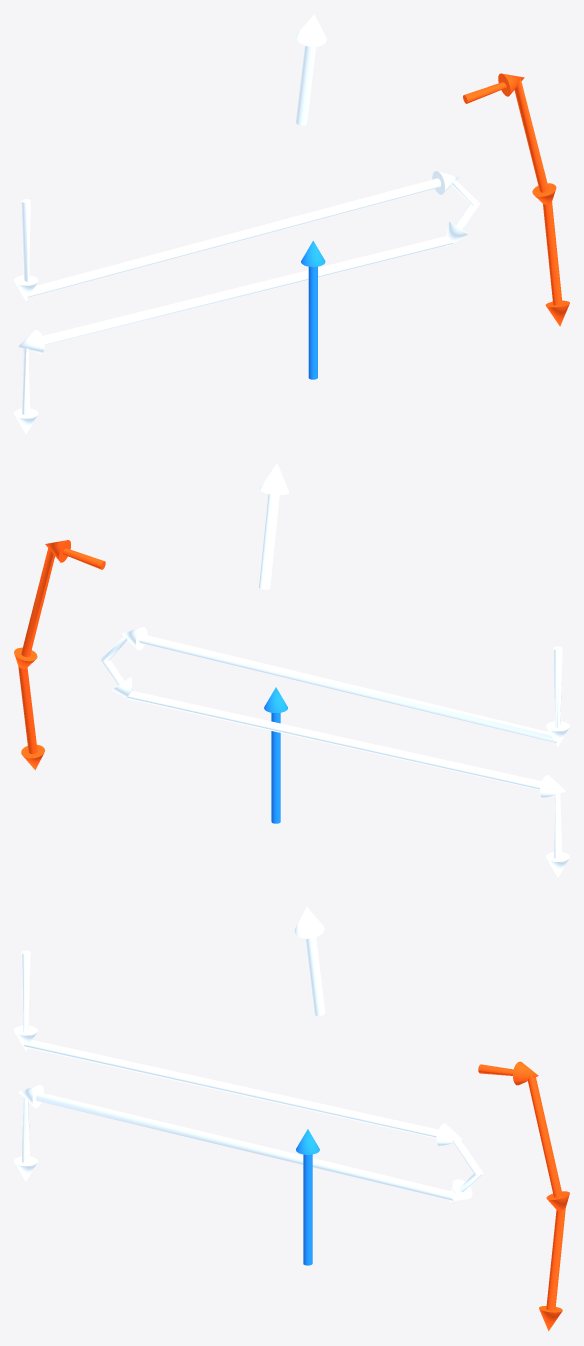
Rendered from reboiler_flow.glb.
The picture shows the model from 3 angles, top to bottom: view 1: azimuth 30°, elevation 25°; view 2: azimuth 150°, elevation 25°; view 3: azimuth 330°, elevation 25°; orthographic projection.
Visible parts, largest first — view 1: heating_steam, overflow, vapour, process_feed; view 2: heating_steam, overflow, vapour, process_feed; view 3: heating_steam, overflow, vapour, process_feed.
Boxes of the visible parts, left/top/right/bottom form: heating_steam: left=14, top=171, right=479, bottom=434; overflow: left=463, top=73, right=569, bottom=326; vapour: left=295, top=14, right=326, bottom=125; process_feed: left=301, top=241, right=325, bottom=379; heating_steam: left=100, top=627, right=569, bottom=877; overflow: left=14, top=540, right=105, bottom=770; vapour: left=258, top=463, right=289, bottom=589; process_feed: left=264, top=687, right=287, bottom=823; heating_steam: left=14, top=950, right=483, bottom=1201; overflow: left=478, top=1061, right=569, bottom=1331; vapour: left=294, top=907, right=325, bottom=1015; process_feed: left=296, top=1129, right=319, bottom=1265.
Bounding box in the file's own units: 2.7 × 1.74 × 0.204.
